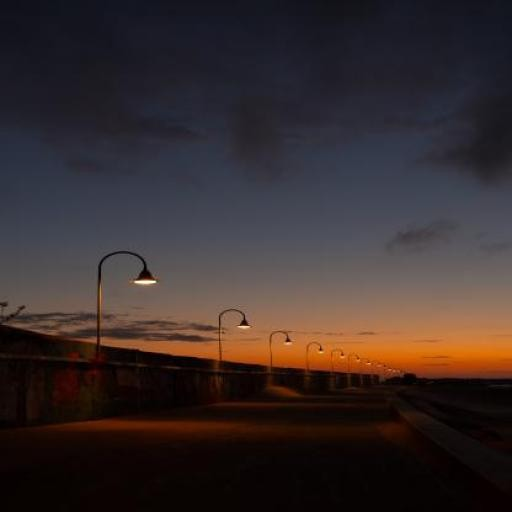acesa: (134, 275, 159, 286), (236, 322, 256, 332), (282, 338, 295, 350), (352, 356, 363, 367), (315, 348, 328, 357), (340, 355, 348, 360)
